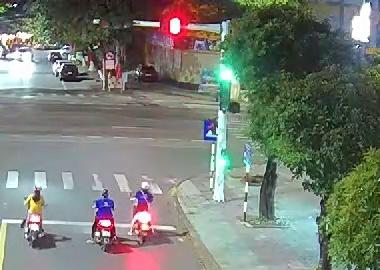red_light: (156, 15, 182, 37)
stop_line: (3, 219, 175, 230)
